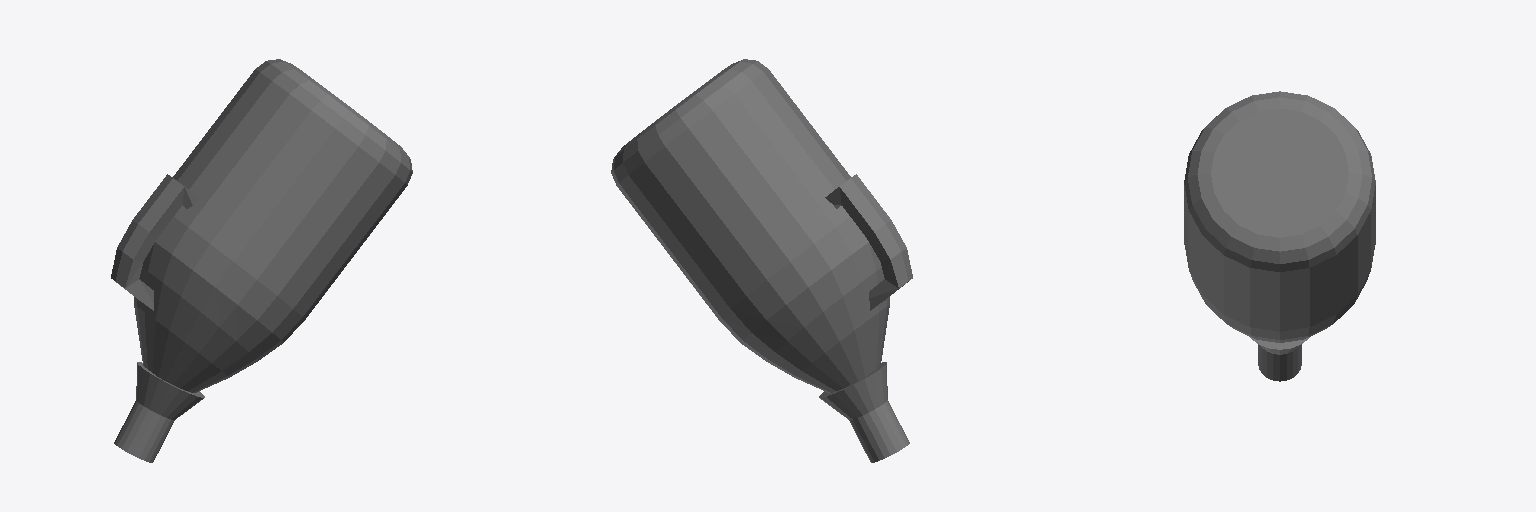
File: QualityUpgradeC2.obj
3 renders of one model, left to right at view 1: azimuth 30°, elevation 25°; view 2: azimuth 150°, elevation 25°; view 3: azimuth 270°, elevation 25°, orthographic.
Parts seen in each view (by area): view 1: pCylinder16 QualityUpgradeC_Parts; view 2: pCylinder16 QualityUpgradeC_Parts; view 3: pCylinder16 QualityUpgradeC_Parts.
Boxes of the visible parts, box(x1,y1,x2,y2) form: pCylinder16 QualityUpgradeC_Parts: box(111, 59, 412, 462); pCylinder16 QualityUpgradeC_Parts: box(611, 59, 912, 462); pCylinder16 QualityUpgradeC_Parts: box(1184, 91, 1375, 381).
Size of the model in its own units: 0.5187 by 0.6257 by 0.3066.